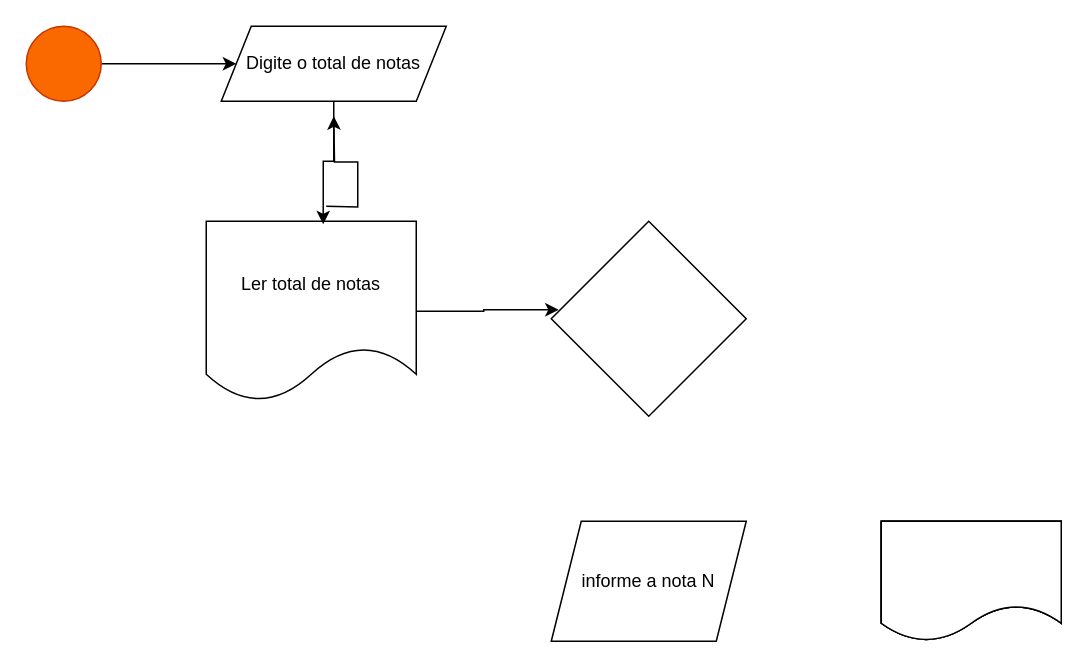
Some shapes in this 1088 by 668 pixel diagram are drawn without their labels. The shapes that lost their labels are listed below. From the top down, each one's box as (x1, y1, x2, y2) in pixels, then its label:
(25, 25, 101, 101): inicio
(550, 220, 746, 416): notaAtual < total de notas
